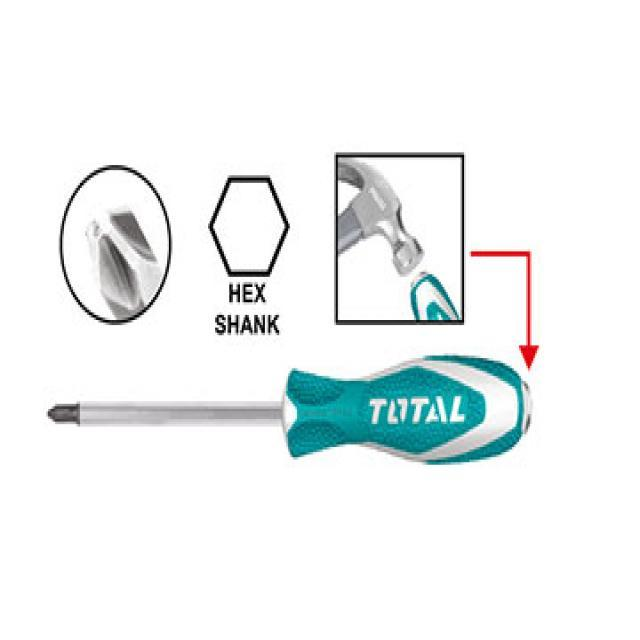screwdriver: (44, 350, 536, 468)
